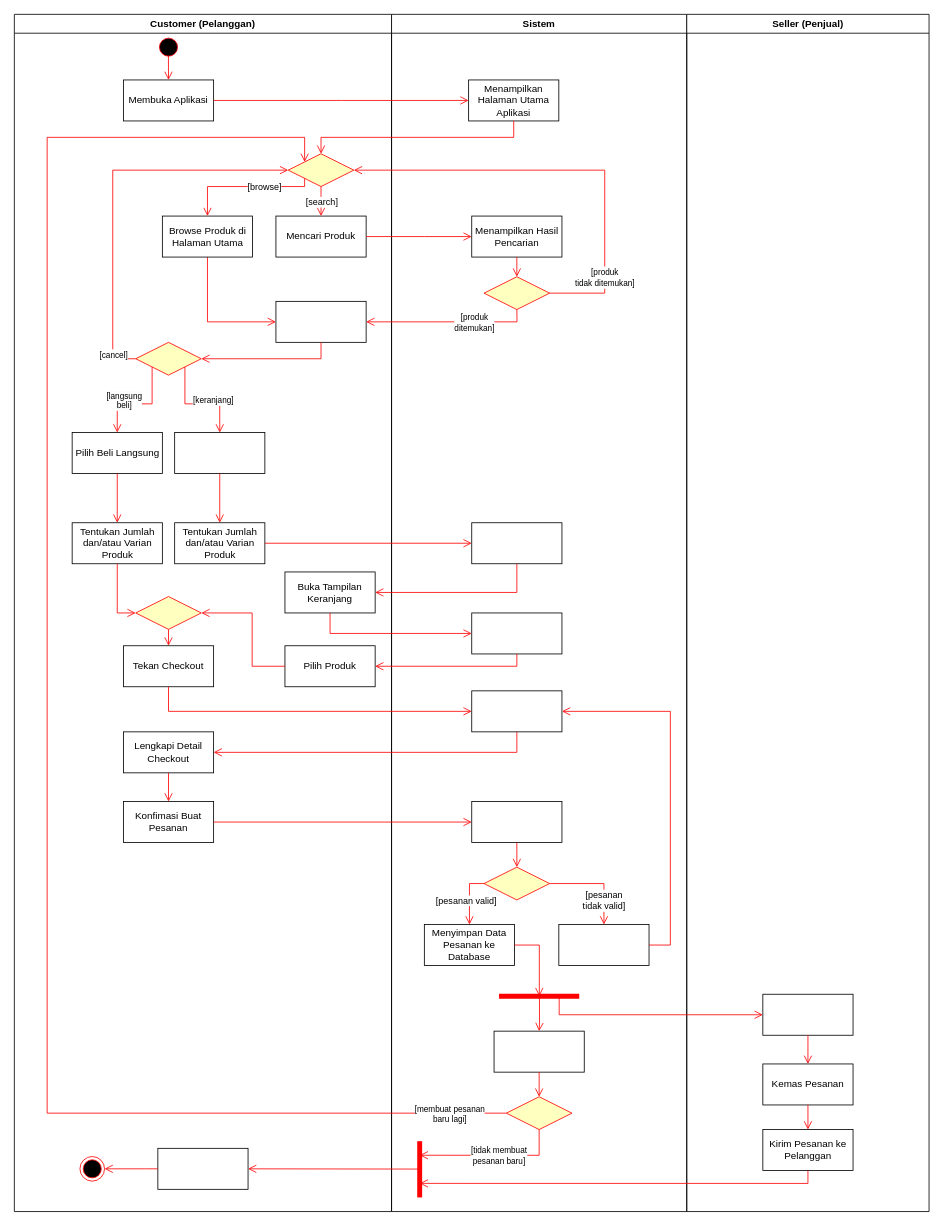
Image size: 944x1226. Some labels were removed from this diagram. Each missing label, with the centre of its shape:
Menampilkan Halaman Checkout: [516,711]
Menampilkan Tampilan Keranjang: [516,633]
Menerima Pesanan: [202,1168]
Menerima Pesanan Baru: [807,1014]
Menyimpan Produk ke Keranjang: [516,543]
Pilih dan Lihat Produk: [320,321]
Pilih Masukkan Produk ke Keranjang: [219,453]
Proses Pesanan: [516,822]
Tampilkan Pesanan Baru Berhasil Dibuat: [538,1051]
Tampilkan Pesanan Error: [603,945]
